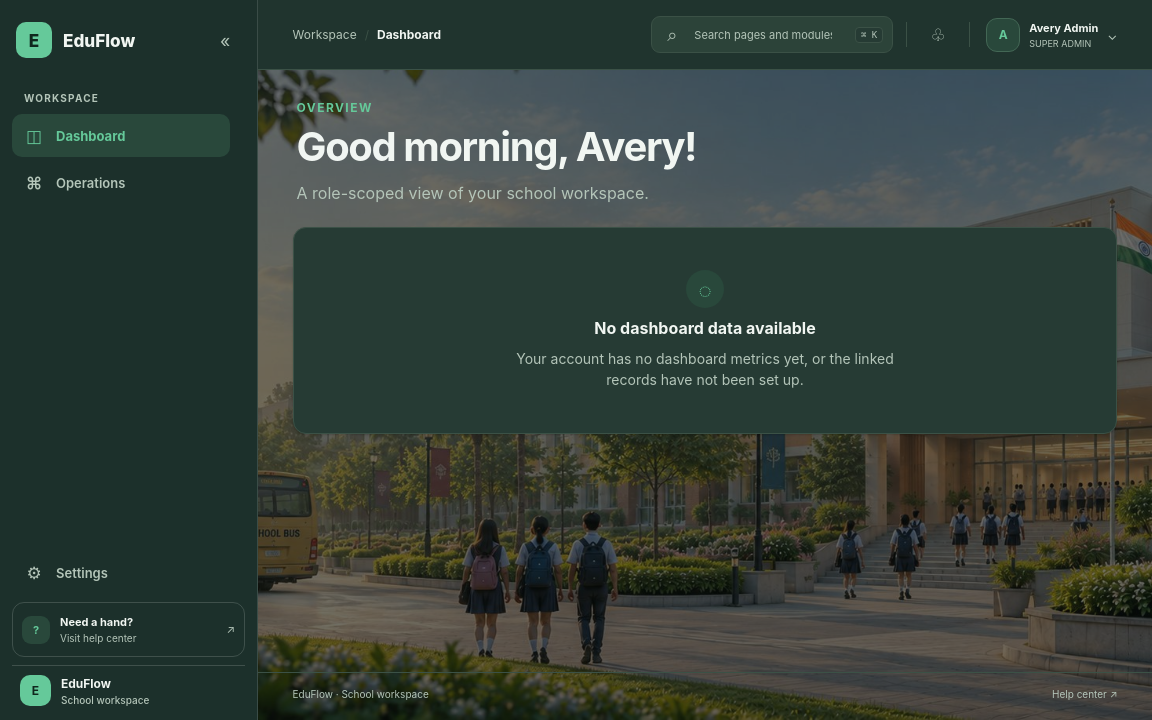
authenticated application shell › shows the Operations workspace only when an Operations permission is present
The width and height of the screenshot is (1152, 720).
Click the link "⌘ Operations". click: (76,182)
box: [26,172,125,192]
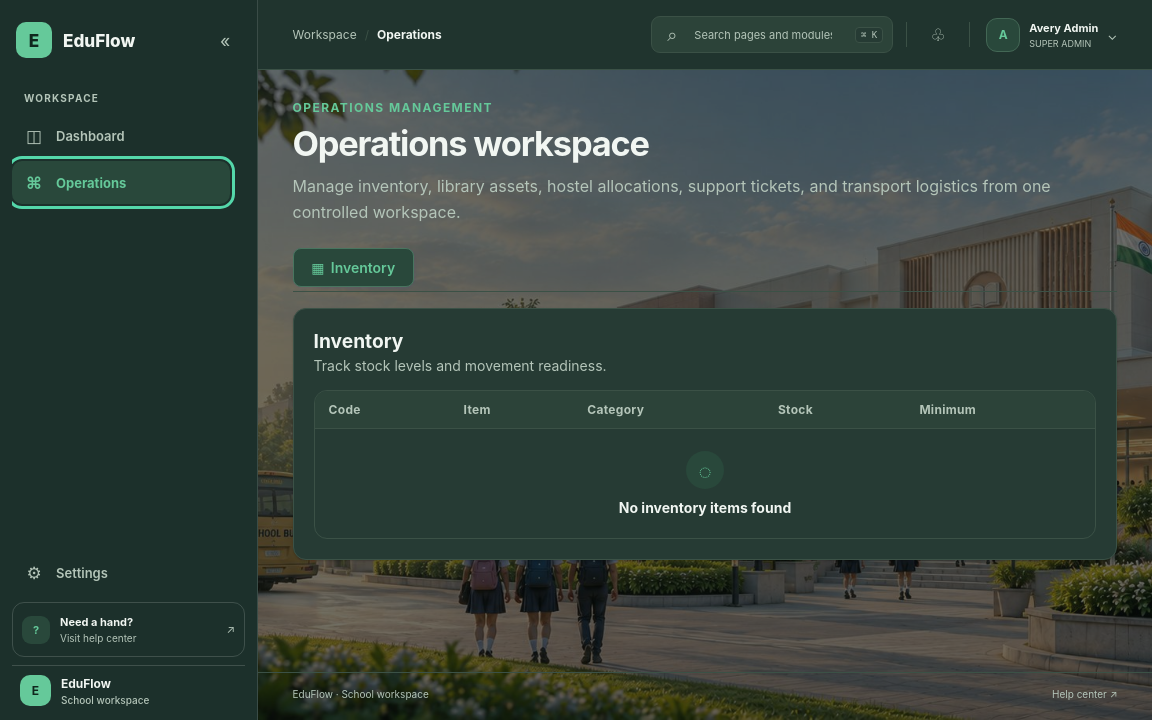
Expected: the heading "Operations workspace" is shown, [292,123,649,164]
Expected: the element named "Operations navigation" is shown, [292,248,1117,292]
